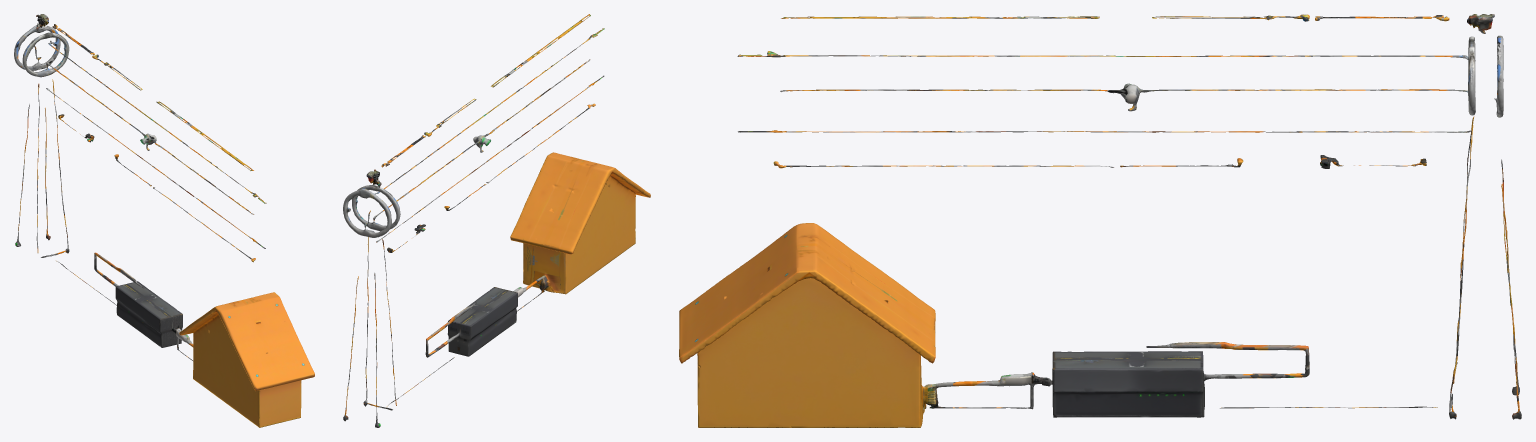
File: kamasnaey.glb
3 renders of one model, left to right at view 1: azimuth 30°, elevation 25°; view 2: azimuth 150°, elevation 25°; view 3: azimuth 270°, elevation 25°, orthographic. The views are drawn at different scales.
Size of the model in its own units: 0.2748 by 1.03 by 1.99.
1 material, 1 textured.
